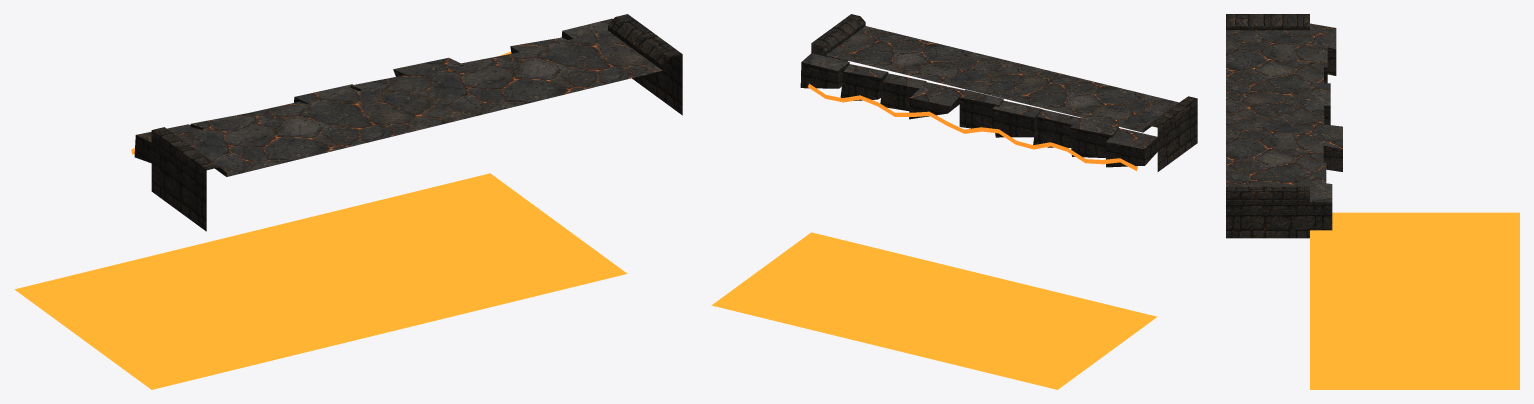
File: gap_edge.glb
3 views of the same model, side by side, from view 1: azimuth 30°, elevation 25°; view 2: azimuth 150°, elevation 25°; view 3: azimuth 270°, elevation 25° (orthographic). The views are drawn at different scales.
Parts seen in each view (by area): view 1: void_glow, gap_edge_floor; view 2: void_glow, gap_edge_floor; view 3: void_glow, gap_edge_floor.
Part boxes in pixels (x1,y1,x2,y2): void_glow: (14,51,627,389); gap_edge_floor: (134,14,682,231); void_glow: (711,83,1157,389); gap_edge_floor: (800,14,1197,171); void_glow: (1310,212,1519,389); gap_edge_floor: (1226,14,1342,238).
Bounding box in the file's own units: 6 × 3.13 × 4.2.
4 materials, 2 textured.
